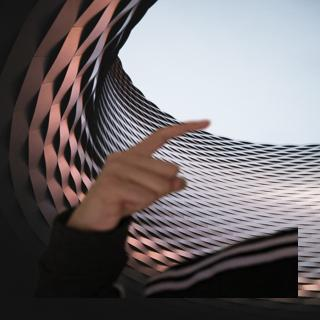WHY: (68, 110, 214, 230)
